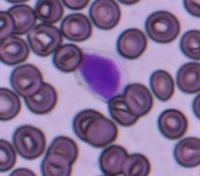L: (74, 50, 127, 102)
